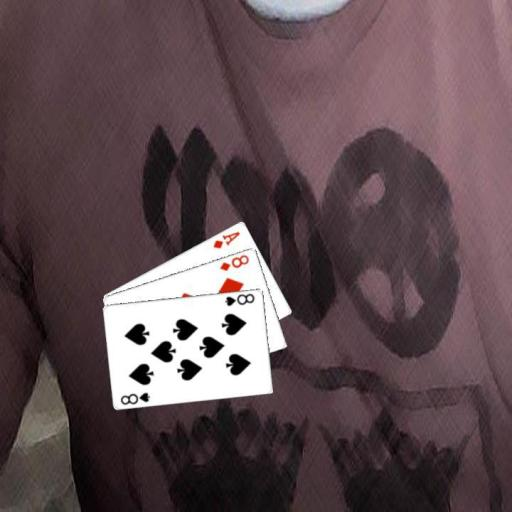8D: (217, 251, 250, 272)
8S: (222, 290, 256, 307), (118, 389, 152, 406)
AD: (210, 228, 242, 250)
